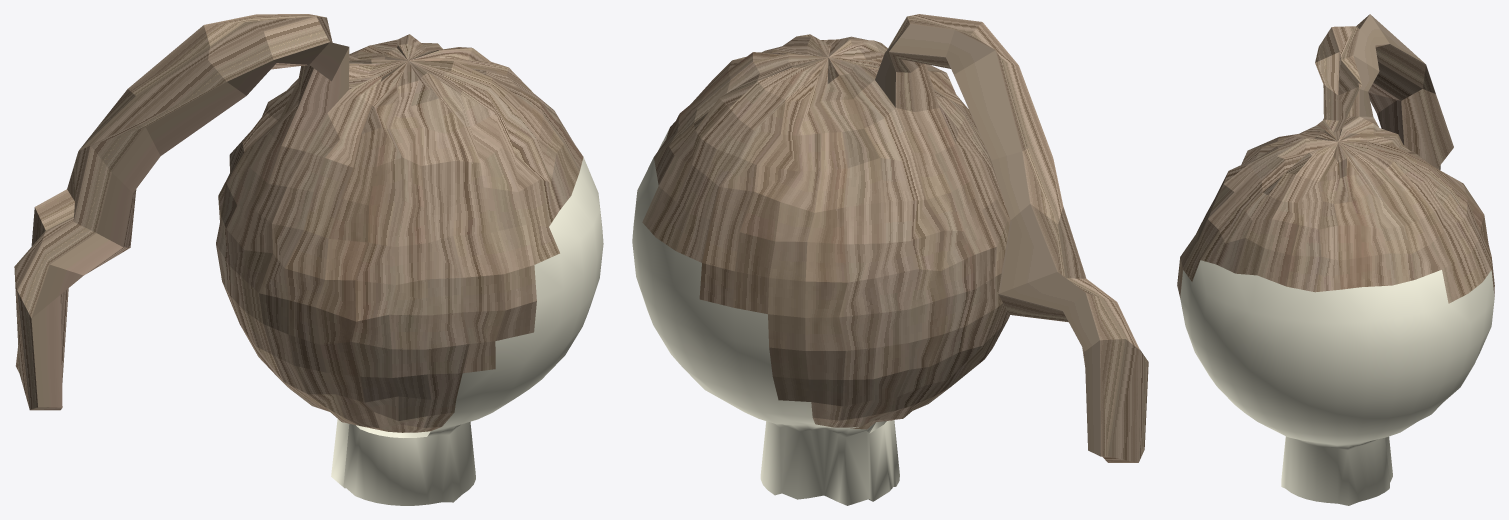
Rendered from heado.glb.
3 views of the same model, side by side, from view 1: azimuth 30°, elevation 25°; view 2: azimuth 150°, elevation 25°; view 3: azimuth 270°, elevation 25° (orthographic). The views are drawn at different scales.
Visible parts, largest first — view 1: Sphere.003, Sphere.001; view 2: Sphere.003, Sphere.001; view 3: Sphere.003, Sphere.001.
Part boxes in pixels (x1=…): Sphere.003: x1=14, y1=14, x2=583, y2=432; Sphere.001: x1=331, y1=157, x2=603, y2=505; Sphere.003: x1=642, y1=14, x2=1148, y2=462; Sphere.001: x1=632, y1=128, x2=899, y2=505; Sphere.003: x1=1177, y1=14, x2=1494, y2=303; Sphere.001: x1=1180, y1=260, x2=1494, y2=505.
Bounding box in the file's own units: 8.97 × 8.1 × 5.84.
Materials: 2 (1 with a texture image).
